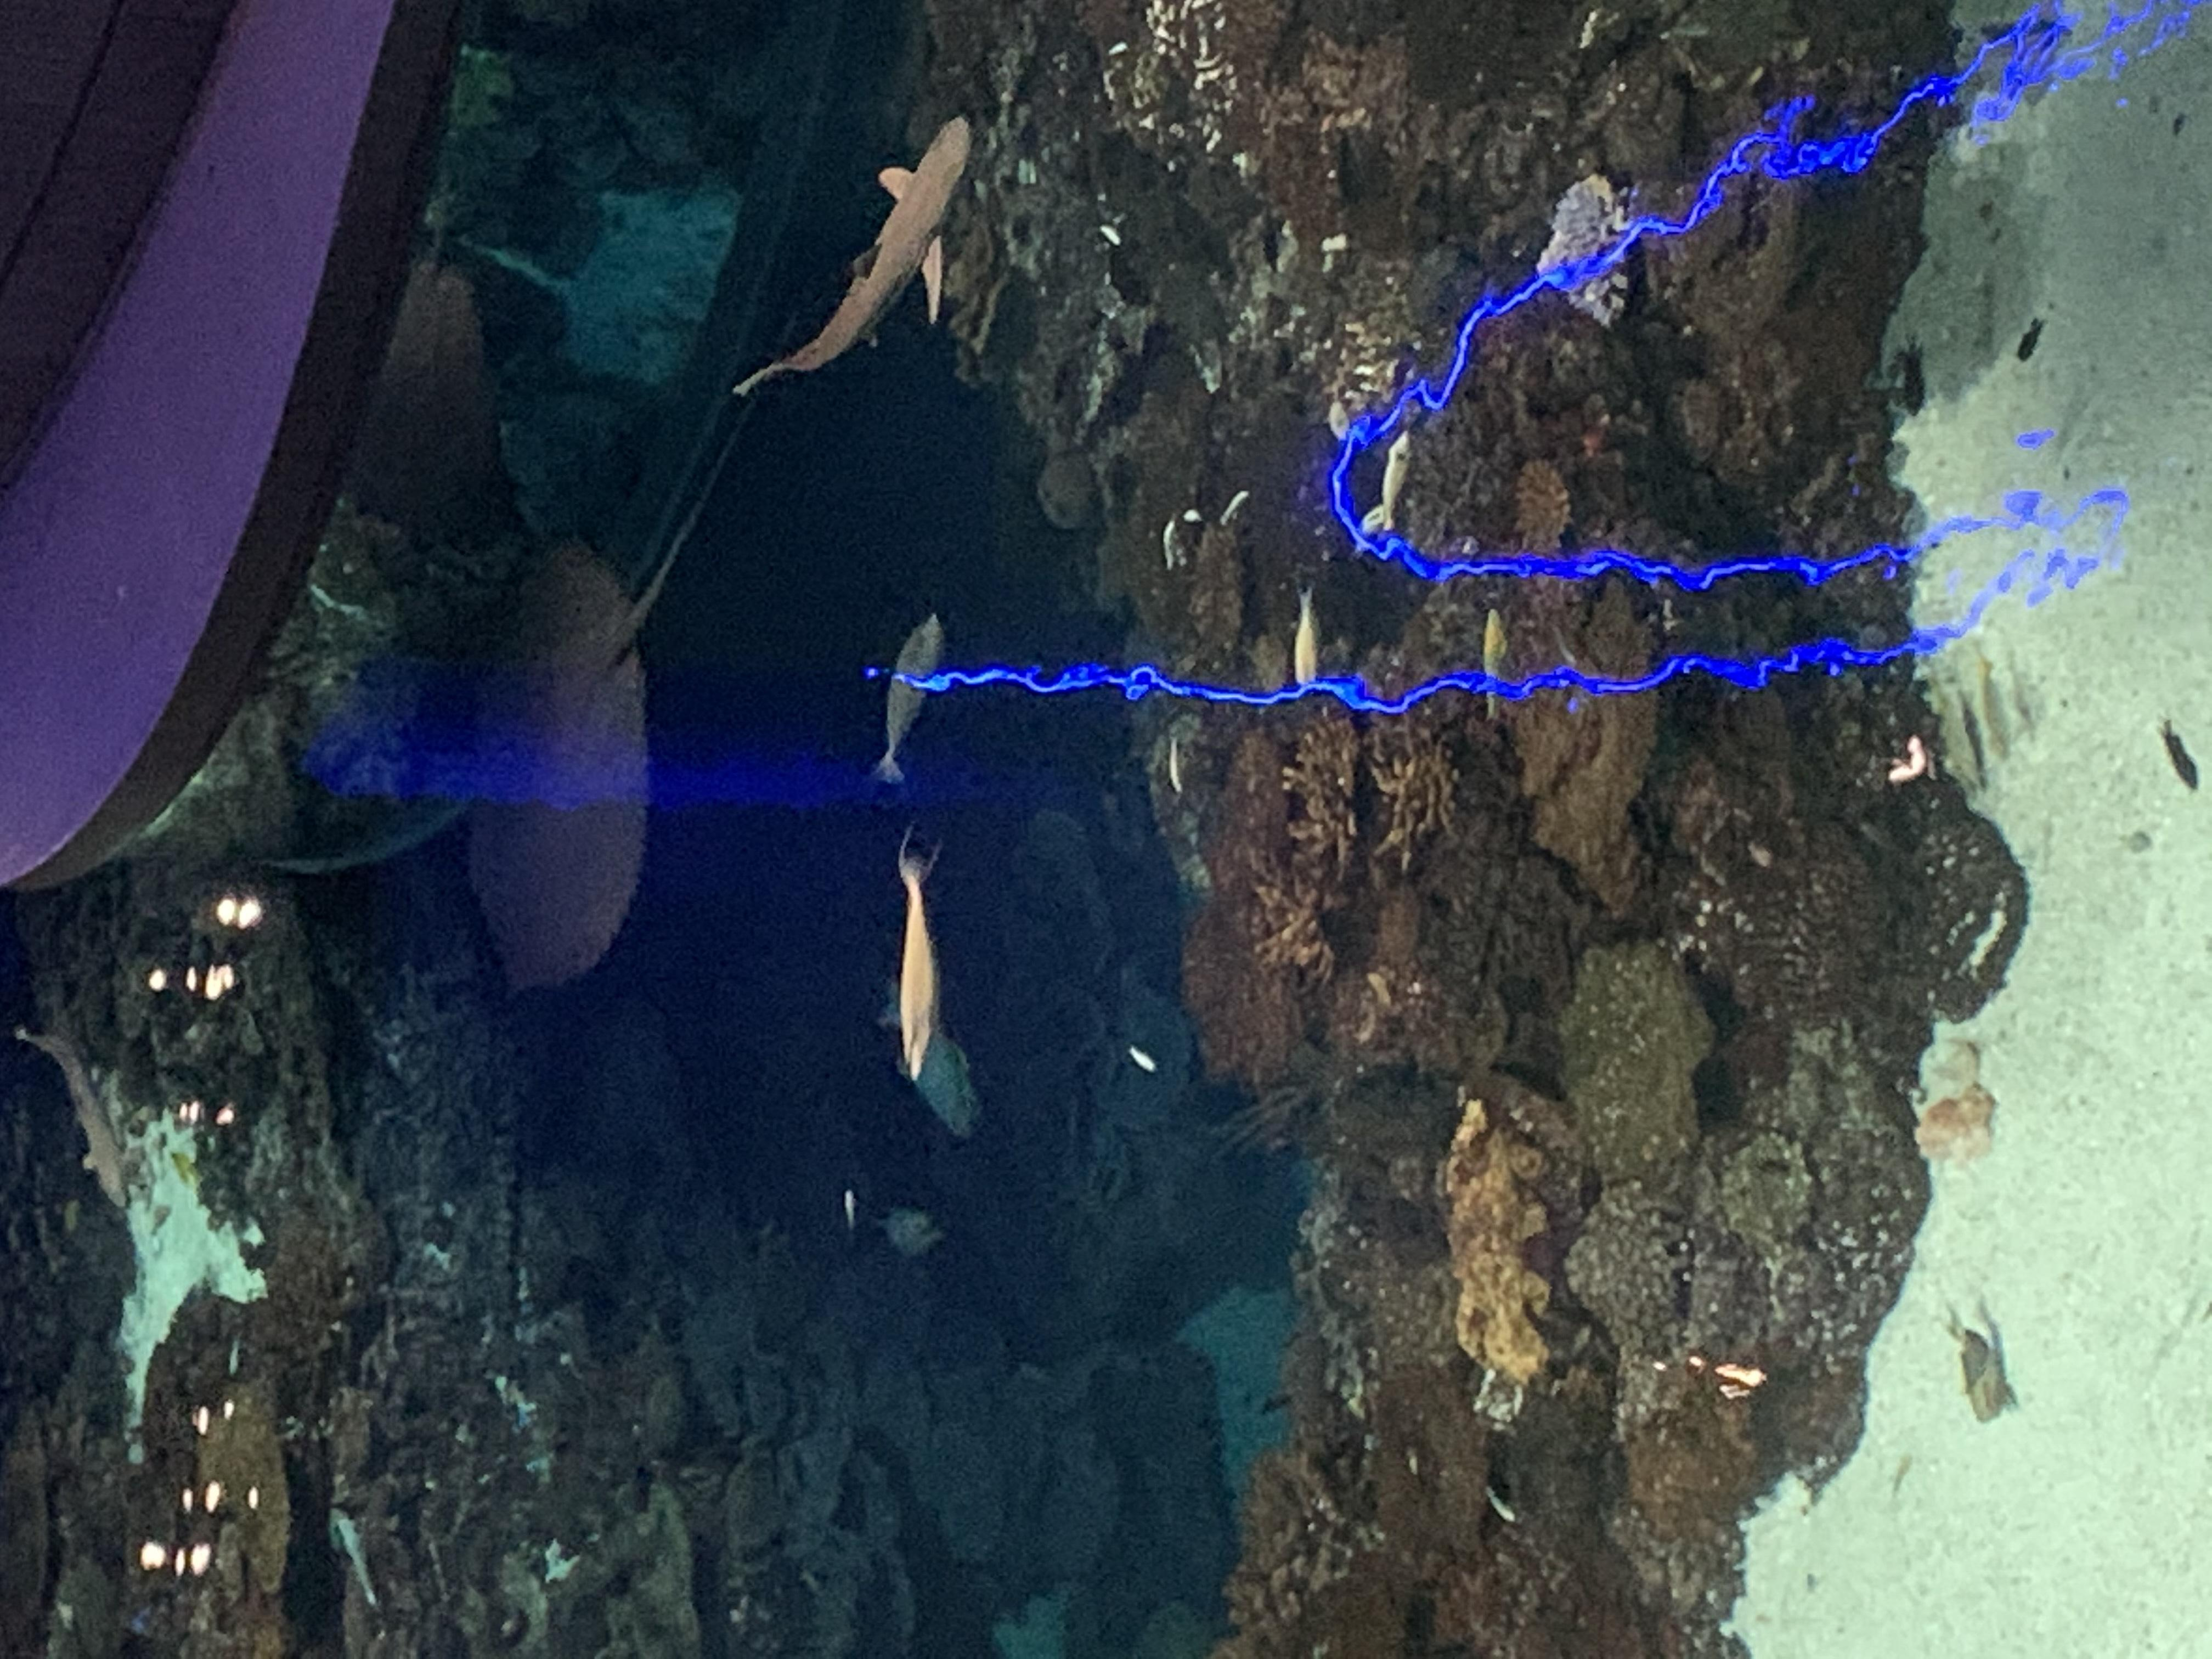fish: (881, 833, 948, 1086), (876, 617, 935, 779)
shark: (728, 110, 977, 406)
stingray: (460, 535, 653, 999)
